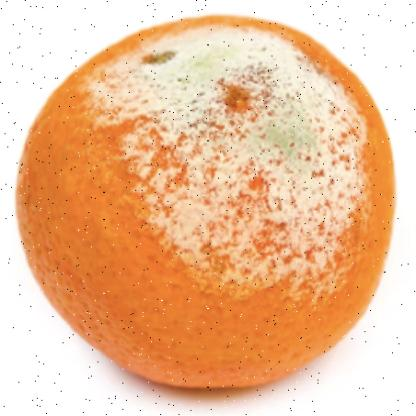rotten: (15, 15, 398, 392)
